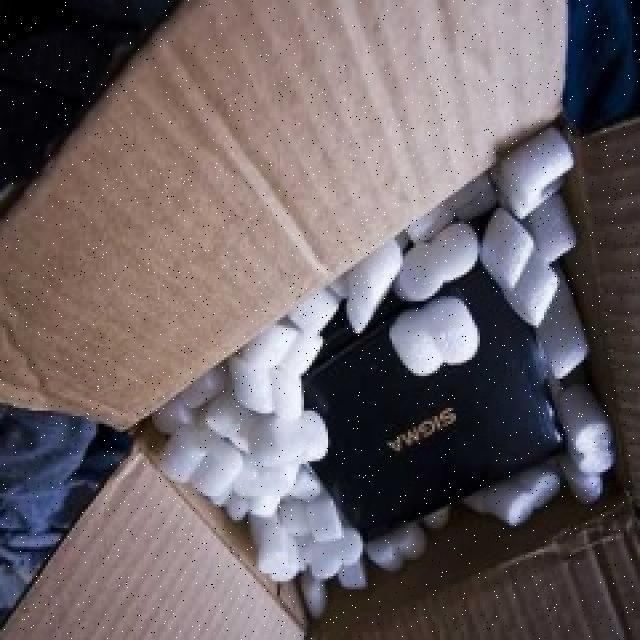box: (0, 0, 640, 640), (274, 237, 565, 573)
